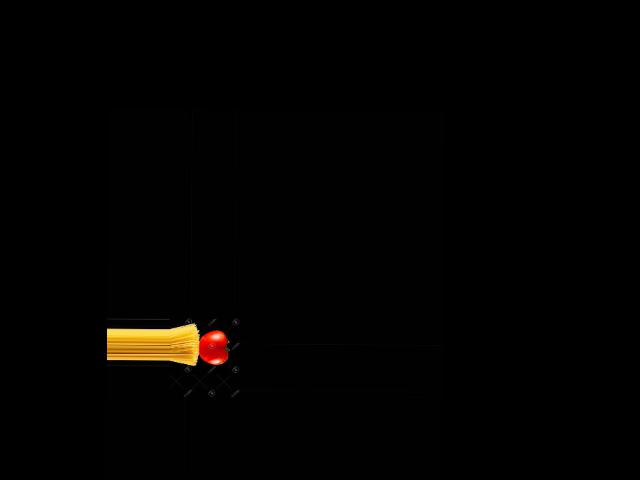tomato: (198, 330, 228, 364)
